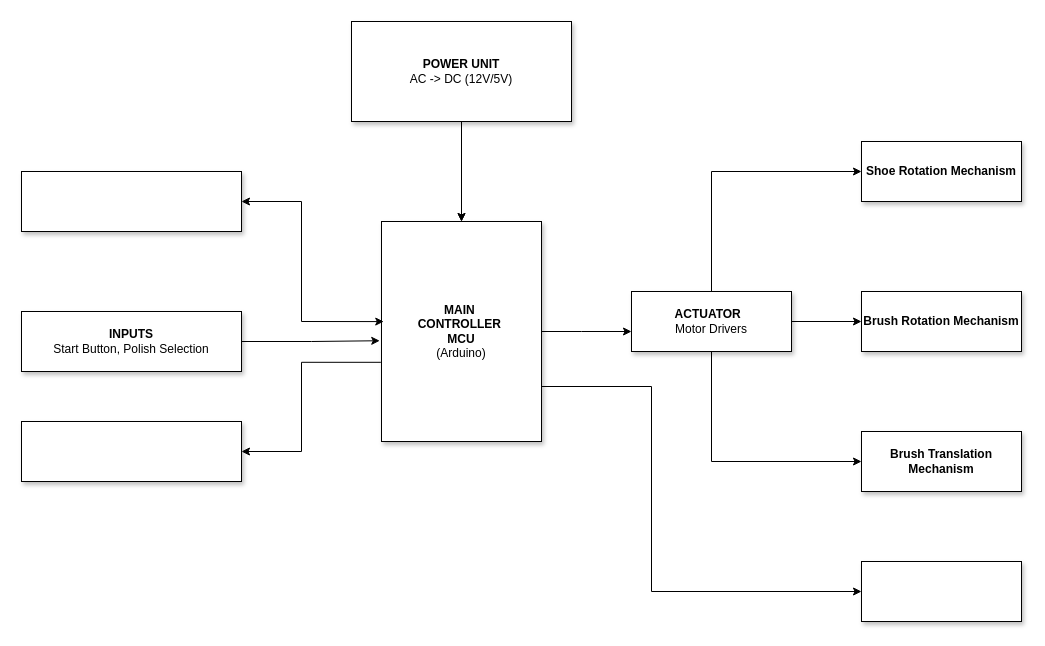
The diagram is 1045 pixels wide and 646 high, and some of its shapes have lost their labels. Each missing label, with the centre of its shape:
INDICATORS LEDs Indicator, Buzzer: the point at 132,452
Polish Dispenser: the point at 942,592
USER INTERFACE (LCD Display): the point at 132,202
